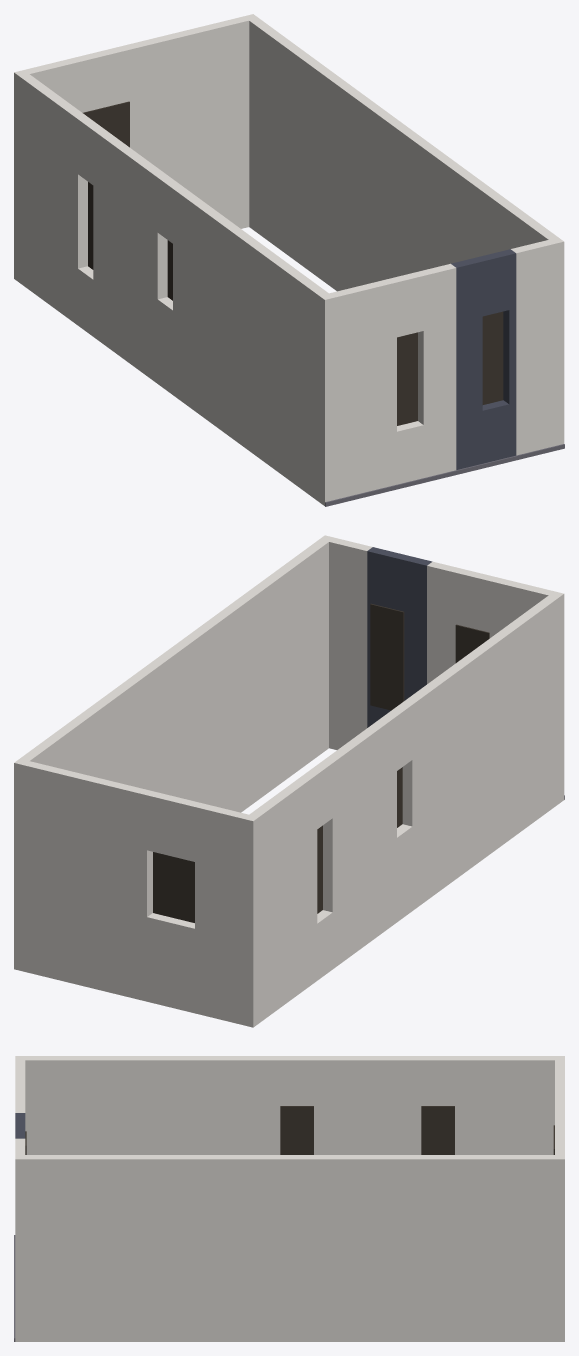
The model's file is SM_Floor_NarrowUpperScatterLowEndL_White_364_Back_01.gltf.
3 views of the same model, one above another, from view 1: azimuth 30°, elevation 25°; view 2: azimuth 150°, elevation 25°; view 3: azimuth 270°, elevation 25° (orthographic). The views are drawn at different scales.
Visible parts, largest first — view 1: SM_Floor_NarrowUpperScatterLowEndL_White_364_Back_01; view 2: SM_Floor_NarrowUpperScatterLowEndL_White_364_Back_01; view 3: SM_Floor_NarrowUpperScatterLowEndL_White_364_Back_01.
Part boxes in pixels (<box>): SM_Floor_NarrowUpperScatterLowEndL_White_364_Back_01: <box>14,14,564,506</box>; SM_Floor_NarrowUpperScatterLowEndL_White_364_Back_01: <box>14,535,564,1027</box>; SM_Floor_NarrowUpperScatterLowEndL_White_364_Back_01: <box>14,1056,564,1341</box>.
Size of the model in its own units: 3.64 by 3 by 8.21.
1 material, 1 textured.
